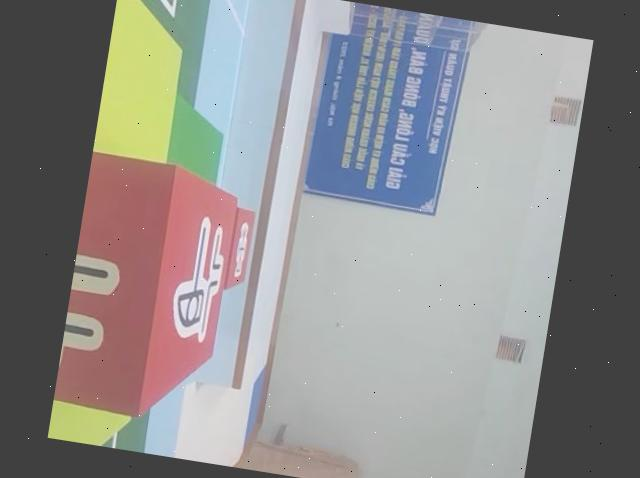R2 Real: (52, 152, 247, 431)
